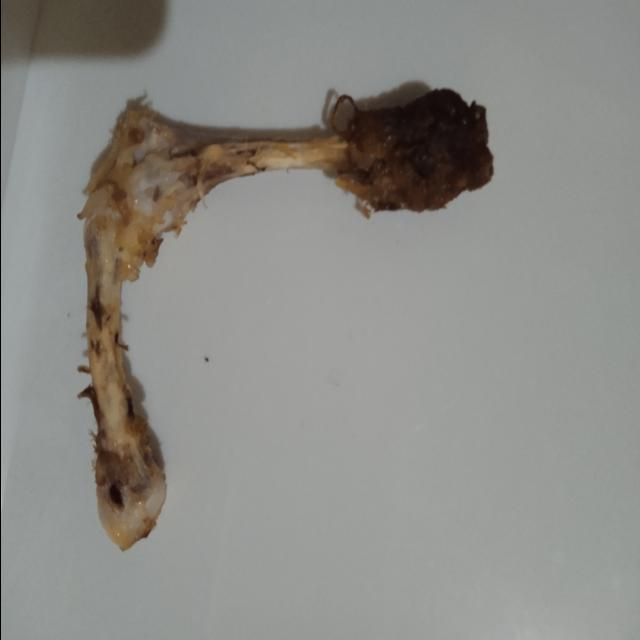bone: (76, 75, 500, 565)
